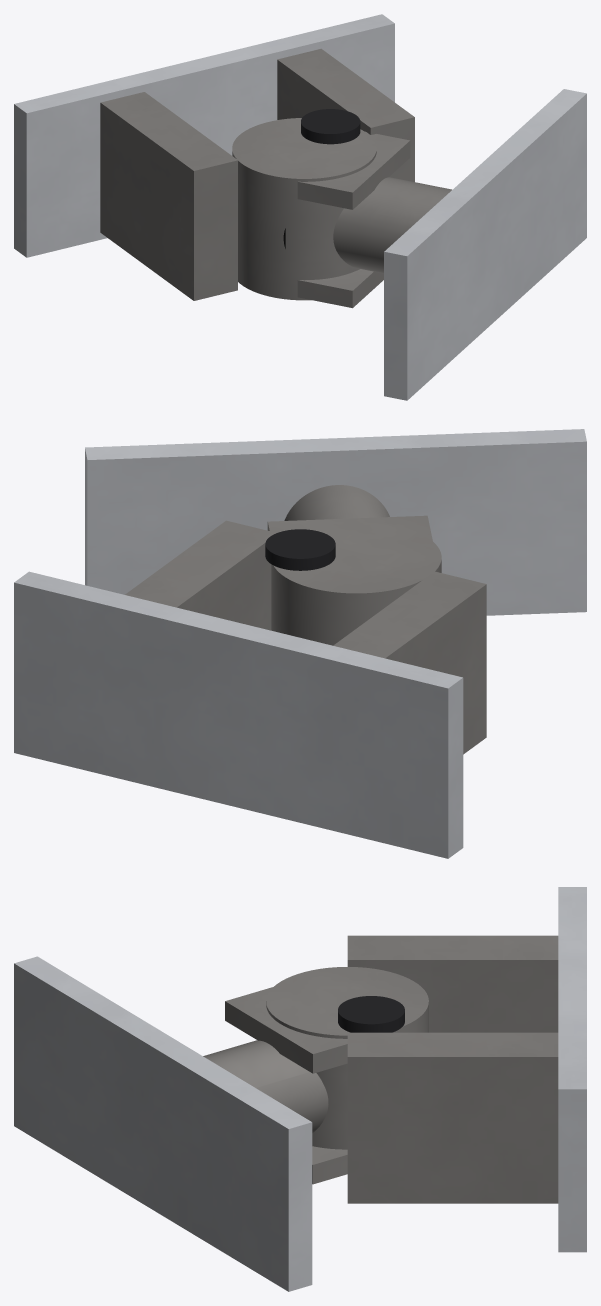
Rendered from rover15_articulated_joint_m_steer_left.glb.
3 renders of one model, top to bottom at view 1: azimuth 30°, elevation 25°; view 2: azimuth 150°, elevation 25°; view 3: azimuth 270°, elevation 25°, orthographic. The views are drawn at different scales.
Parts seen in each view (by area): view 1: half_b_flange, yoke_rear, flange_rear, yaw_bearing, half_b_roll, half_b_clevis, yaw_drive; view 2: flange_rear, half_b_flange, yoke_rear, yaw_bearing, half_b_roll, yaw_drive, half_b_clevis; view 3: half_b_flange, yoke_rear, flange_rear, yaw_bearing, half_b_clevis, half_b_roll, yaw_drive.
Part boxes in pixels (<box>): half_b_flange: <box>384,89,586,400</box>; yoke_rear: <box>100,48,414,300</box>; flange_rear: <box>14,14,394,257</box>; yaw_bearing: <box>232,118,376,300</box>; half_b_roll: <box>333,177,451,273</box>; half_b_clevis: <box>297,131,410,308</box>; yaw_drive: <box>301,109,360,144</box>; flange_rear: <box>14,571,463,858</box>; half_b_flange: <box>85,429,586,615</box>; yoke_rear: <box>125,520,486,754</box>; yaw_bearing: <box>271,521,441,645</box>; half_b_roll: <box>284,485,389,520</box>; yaw_drive: <box>265,529,335,570</box>; half_b_clevis: <box>267,515,432,541</box>; half_b_flange: <box>14,956,312,1291</box>; yoke_rear: <box>347,935,558,1203</box>; flange_rear: <box>558,887,586,1252</box>; yaw_bearing: <box>266,967,428,1149</box>; half_b_clevis: <box>225,987,347,1184</box>; half_b_roll: <box>203,1040,328,1132</box>; yaw_drive: <box>338,996,404,1032</box>.
Bounding box in the file's own units: 0.9571 × 0.3 × 0.9571.
Materials: 4 (2 with a texture image).
